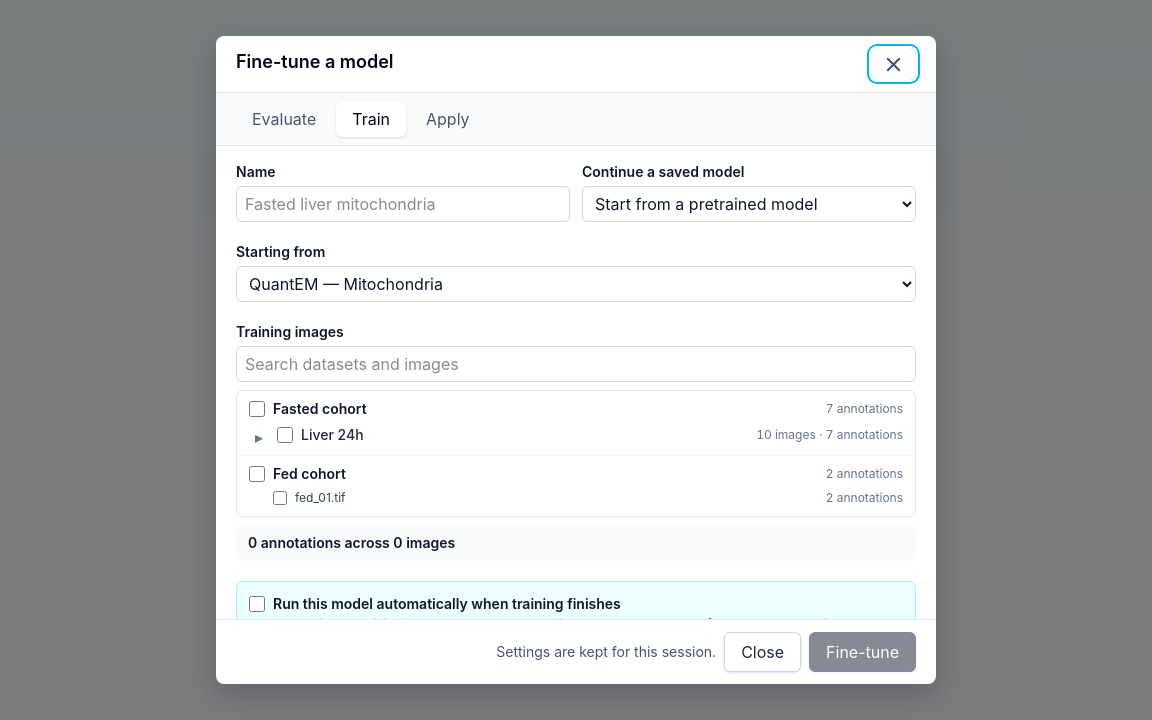
Test: FineTuneDialog › renders the tree and totals the owner's ten-image dataset to 7
The width and height of the screenshot is (1152, 720).
Expected: the text "Fasted cohort" is shown, x1=273 y1=399 x2=367 y2=419
Expected: the text "Liver 24h" is shown, x1=301 y1=425 x2=364 y2=445
Step 1. Click the checkbox labelled "Liver 24h" → (285, 435), box x1=277 y1=427 x2=293 y2=443
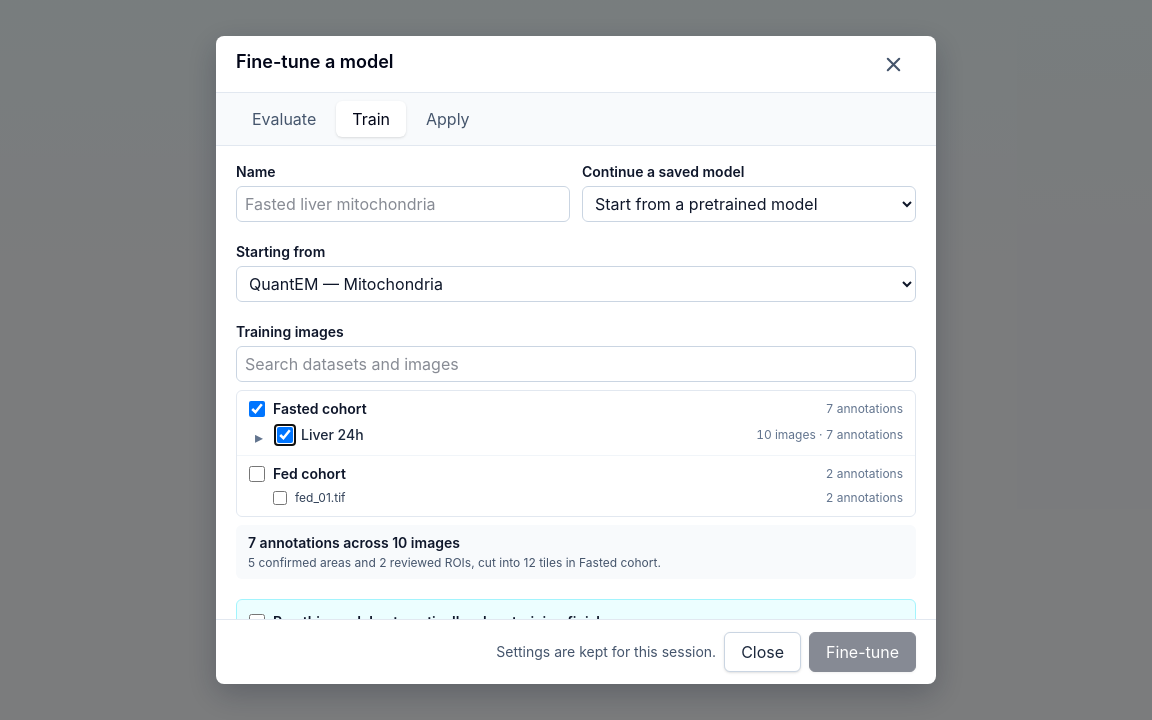
Now the message with test id "finetune-count" shows "cut into 12 tiles", box x1=236 y1=525 x2=916 y2=579
Now the message with test id "finetune-count" shows "7 annotations across 10 images", box x1=236 y1=525 x2=916 y2=579
Now the message with test id "finetune-count" shows "5 confirmed areas and 2 reviewed ROIs", box x1=236 y1=525 x2=916 y2=579
